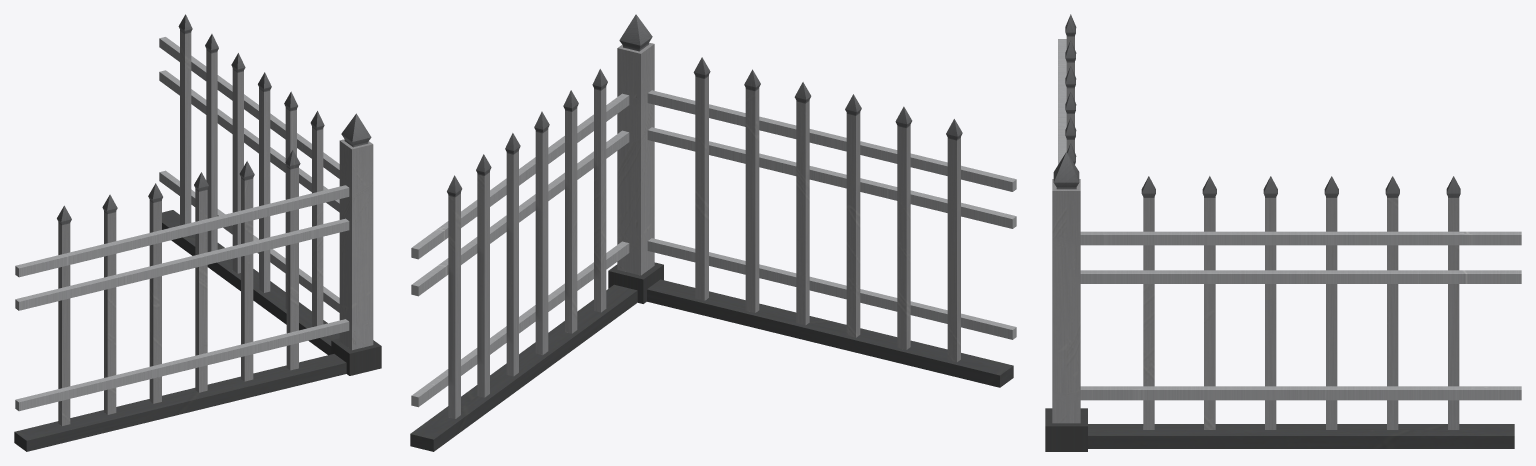
Rendered from FenceCorner.fbx.
The picture shows the model from 3 angles, left to right: view 1: azimuth 30°, elevation 25°; view 2: azimuth 150°, elevation 25°; view 3: azimuth 270°, elevation 25°; orthographic projection. The views are drawn at different scales.
Visible parts, largest first — view 1: Fence_Corner; view 2: Fence_Corner; view 3: Fence_Corner.
Boxes of the visible parts, bbox=[...] form: Fence_Corner: bbox=[14, 14, 381, 451]; Fence_Corner: bbox=[410, 14, 1016, 451]; Fence_Corner: bbox=[1045, 14, 1521, 451].
Bounding box in the file's own units: 167 × 113 × 168.
Materials: 1 (1 with a texture image).
